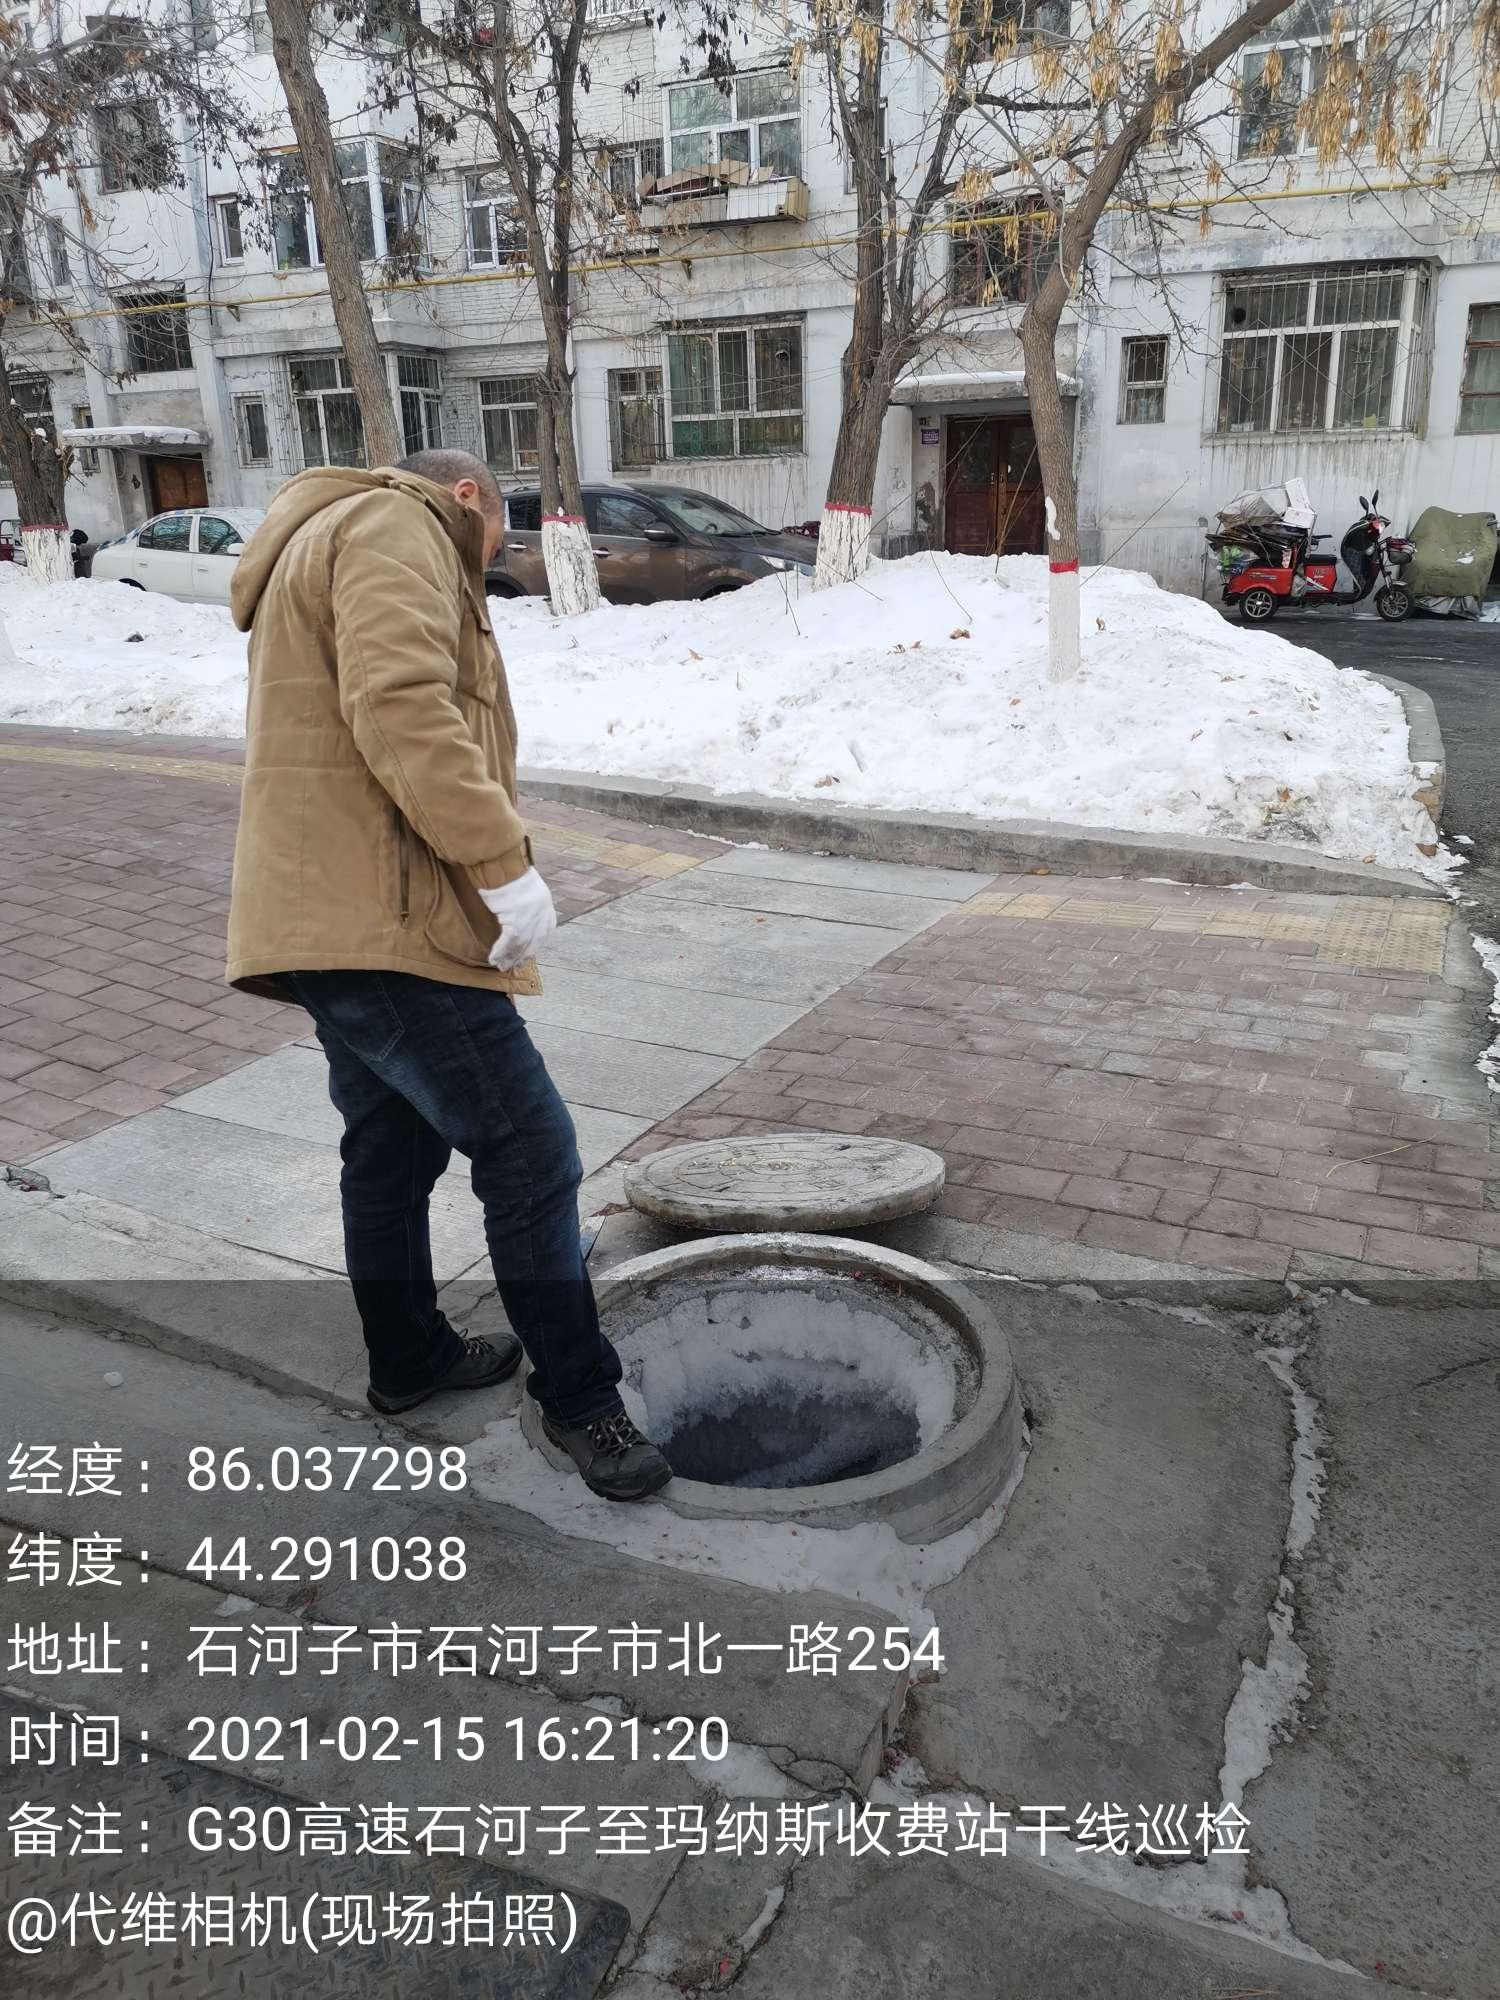wellcover: (558, 1068, 1032, 1546)
